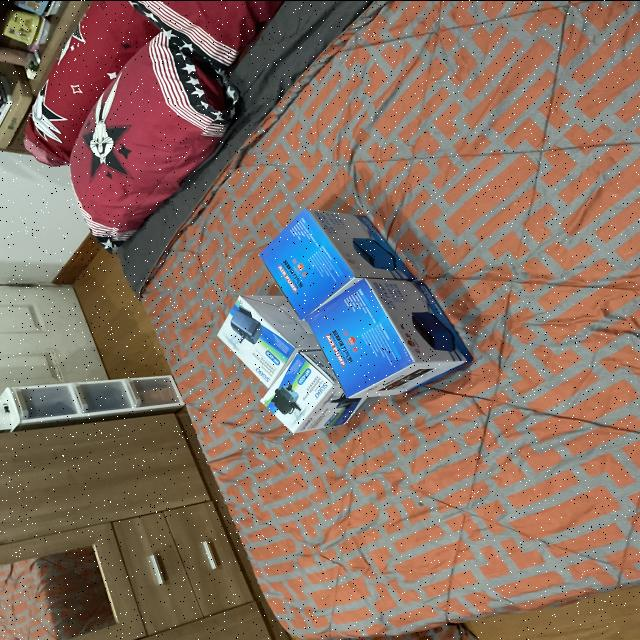SOBO_WP_4200: (190, 284, 316, 392), (245, 345, 366, 441)
YAMANO_LPP_20: (304, 268, 488, 408), (248, 178, 418, 320)
